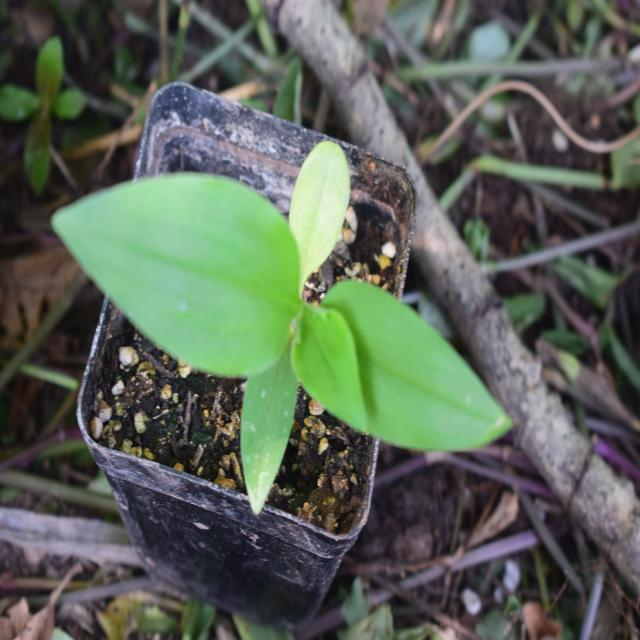Common Dayflower: (58, 162, 503, 478)
